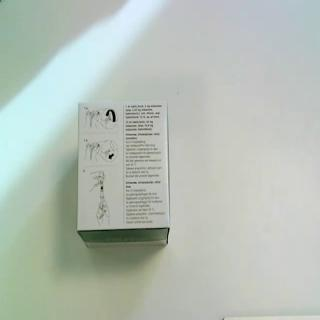midazolam5mg_ml: (76, 100, 172, 250)
